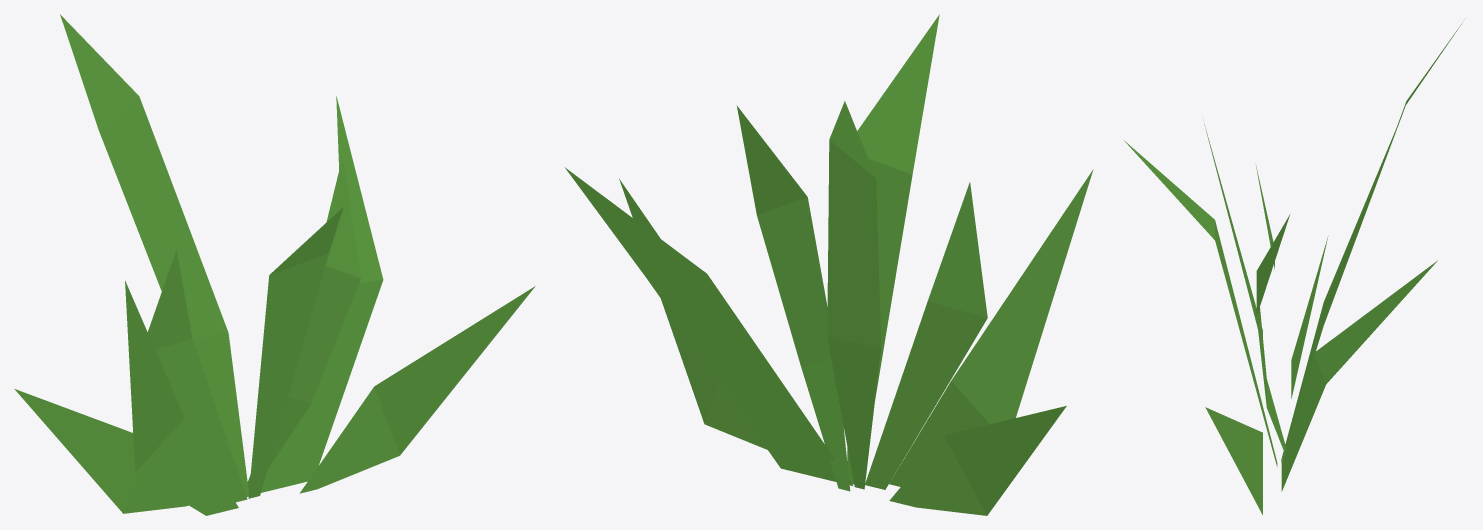
Rendered from grass-tall.glb.
The picture shows the model from 3 angles, left to right: view 1: azimuth 30°, elevation 25°; view 2: azimuth 150°, elevation 25°; view 3: azimuth 270°, elevation 25°; orthographic projection. The views are drawn at different scales.
Parts seen in each view (by area): view 1: grass-tall; view 2: grass-tall; view 3: grass-tall.
Part boxes in pixels (x1,y1,x2,y2): grass-tall: (14,14,535,515); grass-tall: (565,14,1093,515); grass-tall: (1124,19,1464,514).
Size of the model in its own units: 1.25 by 1.13 by 0.8707.
Materials: 1 (1 with a texture image).
